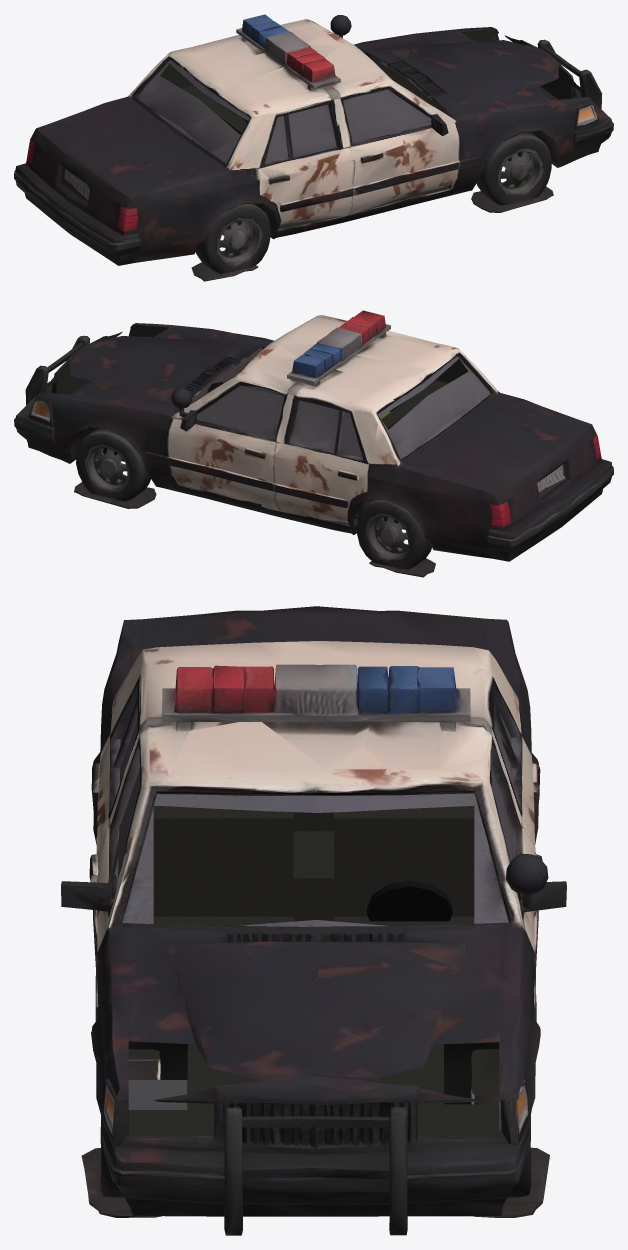
Rendered from car_police_b.glb.
3 renders of one model, top to bottom at view 1: azimuth 30°, elevation 25°; view 2: azimuth 150°, elevation 25°; view 3: azimuth 270°, elevation 25°, orthographic. The views are drawn at different scales.
Visible parts, largest first — view 1: body, trunk, hood, door_front_2, door_front_1, wheel_1, wheel_4, door_back_2; view 2: body, trunk, door_back_2, hood, door_back_1, wheel_2, wheel_3; view 3: body, hood, trunk, door_back_2, door_front_2, door_back_1, door_front_1, wheel_4, wheel_3.
Boxes of the visible parts, x1,y1,x2,y2 form: body: (14, 14, 613, 281); trunk: (31, 94, 233, 207); hood: (354, 30, 558, 128); door_front_2: (343, 82, 459, 218); door_front_1: (247, 97, 354, 236); wheel_1: (196, 196, 278, 277); wheel_4: (500, 130, 565, 206); door_back_2: (330, 15, 363, 51); body: (14, 310, 613, 577); trunk: (394, 390, 595, 503); door_back_2: (168, 378, 284, 514); hood: (69, 325, 273, 424); door_back_1: (273, 393, 380, 532); wheel_2: (356, 512, 409, 571); wheel_3: (76, 445, 127, 503); body: (81, 640, 549, 1235); hood: (102, 919, 529, 1085); trunk: (101, 606, 530, 728); door_back_2: (479, 738, 566, 1006); door_front_2: (61, 738, 148, 1006); door_back_1: (489, 653, 539, 853); door_front_1: (92, 652, 143, 853); wheel_4: (86, 1059, 187, 1210); wheel_3: (505, 1130, 546, 1201).
Bounding box in the file's own units: 4.8 × 1.48 × 2.01.
7 materials, 4 textured.
